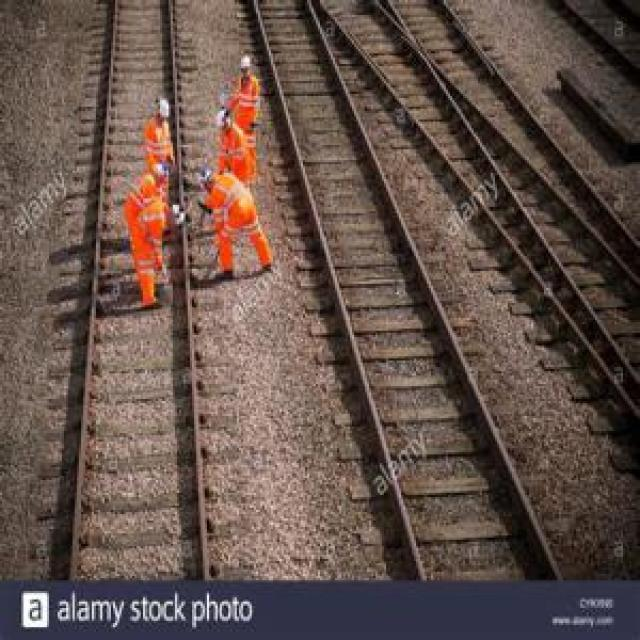danger: (198, 160, 278, 275), (126, 160, 168, 309), (212, 105, 253, 196), (143, 100, 179, 190), (232, 53, 262, 145)
rail: (240, 0, 580, 584), (322, 0, 640, 475), (52, 1, 231, 588)
